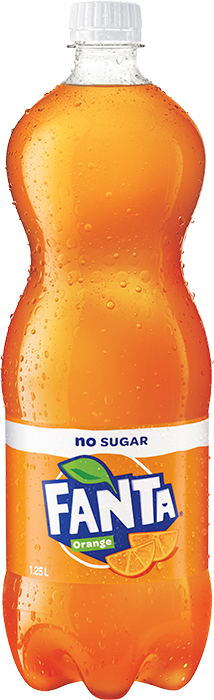Fanta: (4, 14, 214, 697)
